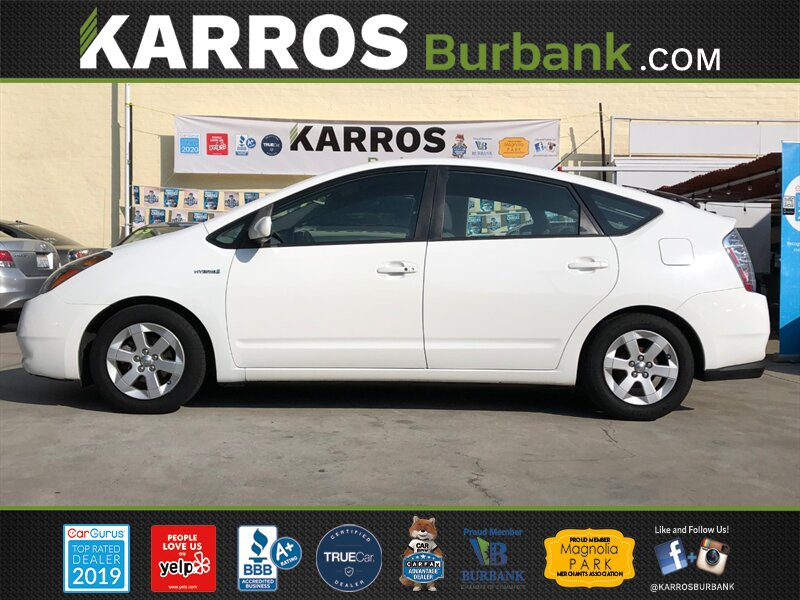Toyota Prius: (12, 154, 772, 424)
